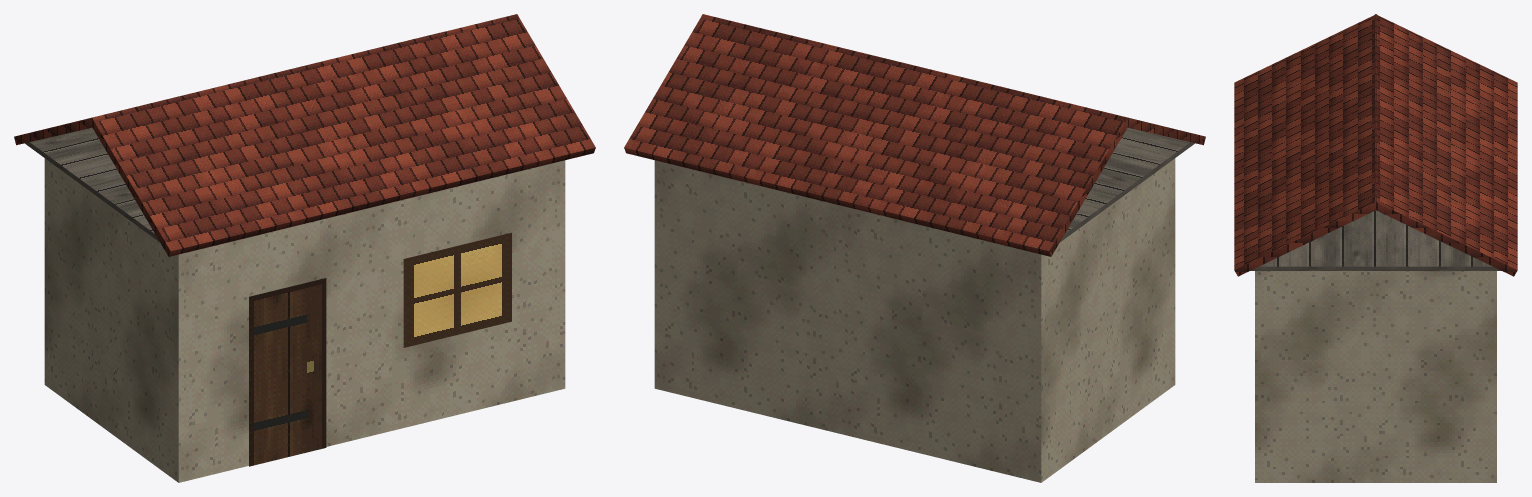
File: caseta_estacion.obj
3 views of the same model, side by side, from view 1: azimuth 30°, elevation 25°; view 2: azimuth 150°, elevation 25°; view 3: azimuth 270°, elevation 25° (orthographic). The views are drawn at different scales.
Parts seen in each view (by area): view 1: caseta_estacion; view 2: caseta_estacion; view 3: caseta_estacion.
Part boxes in pixels (<box>): caseta_estacion: <box>14,14,595,482</box>; caseta_estacion: <box>624,14,1205,482</box>; caseta_estacion: <box>1234,14,1517,482</box>.
Bounding box in the file's own units: 5.5 × 3.96 × 3.51.
5 materials, 5 textured.
